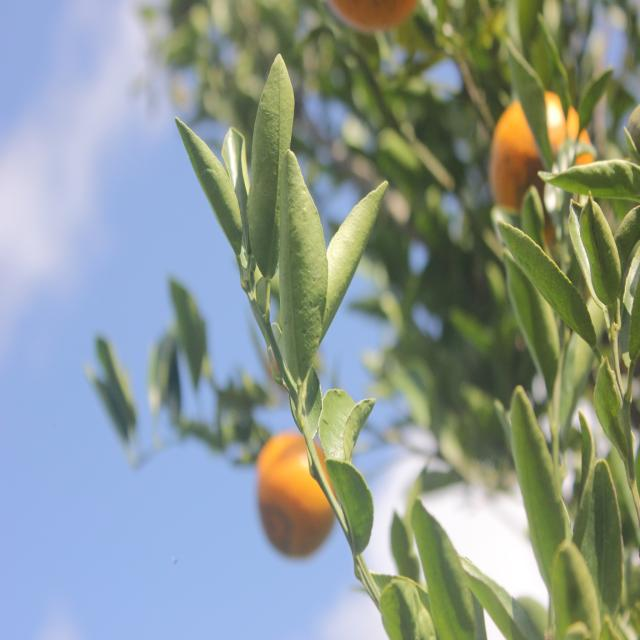melanose: (277, 152, 331, 393)
